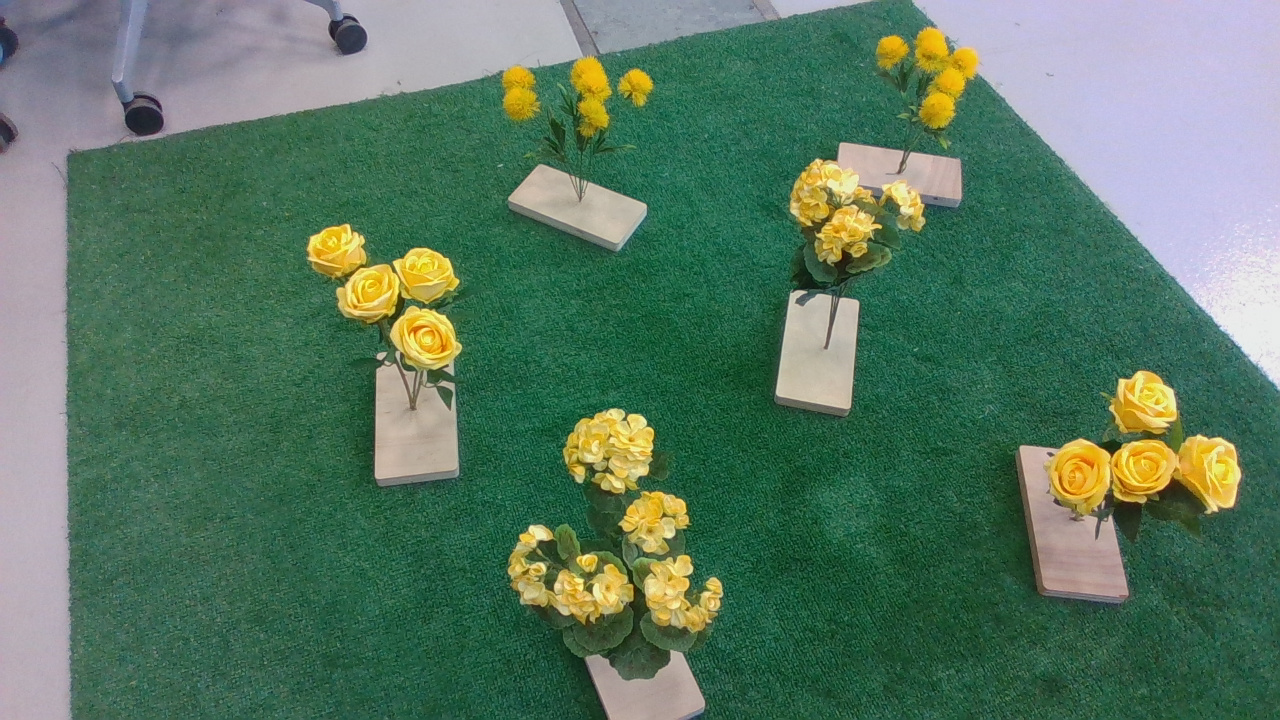dandelion: (494, 59, 688, 168), (869, 17, 991, 153)
geranium: (497, 405, 731, 688), (759, 160, 949, 313)
rose: (1039, 363, 1254, 544), (295, 208, 476, 423)
